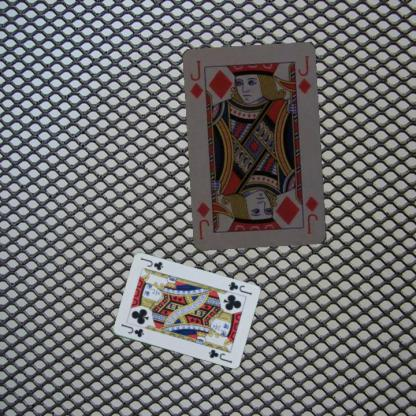Jc: (118, 321, 145, 339), (225, 279, 253, 296)
Jd: (302, 194, 320, 236), (187, 58, 205, 100)
